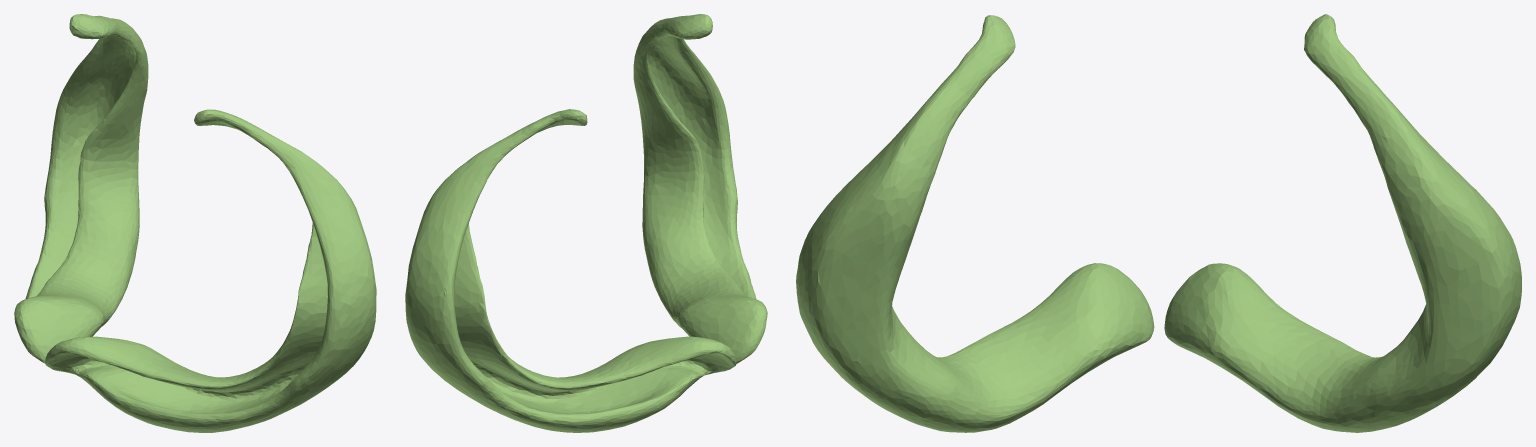
3 renders of one model, left to right at view 1: azimuth 30°, elevation 25°; view 2: azimuth 150°, elevation 25°; view 3: azimuth 270°, elevation 25°, orthographic. The views are drawn at different scales.
Visible parts, largest first — view 1: 10703.obj; view 2: 10703.obj; view 3: 10703.obj.
Part boxes in pixels (x1=…): 10703.obj: x1=14, y1=14, x2=376, y2=432; 10703.obj: x1=405, y1=14, x2=767, y2=432; 10703.obj: x1=796, y1=14, x2=1521, y2=432.
Size of the model in its own units: 3136 by 4363 by 7040.
